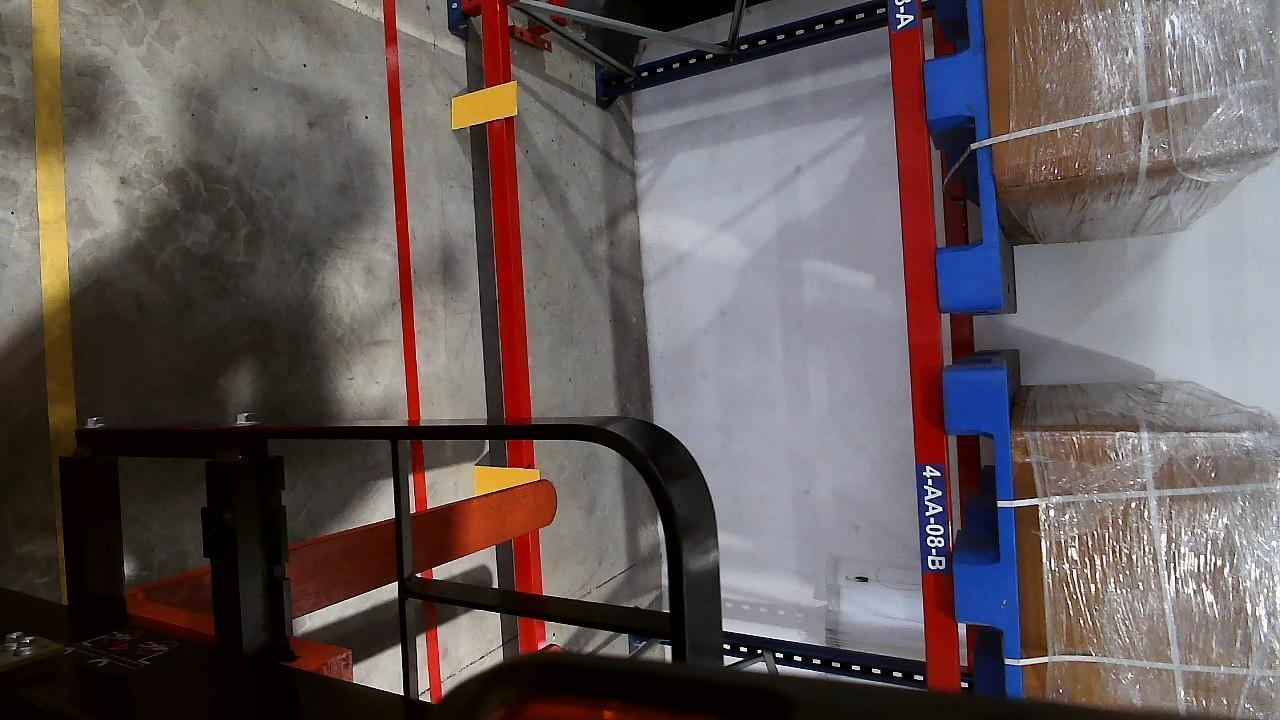red_line: (380, 0, 421, 429)
yellow_line: (30, 7, 77, 453)
